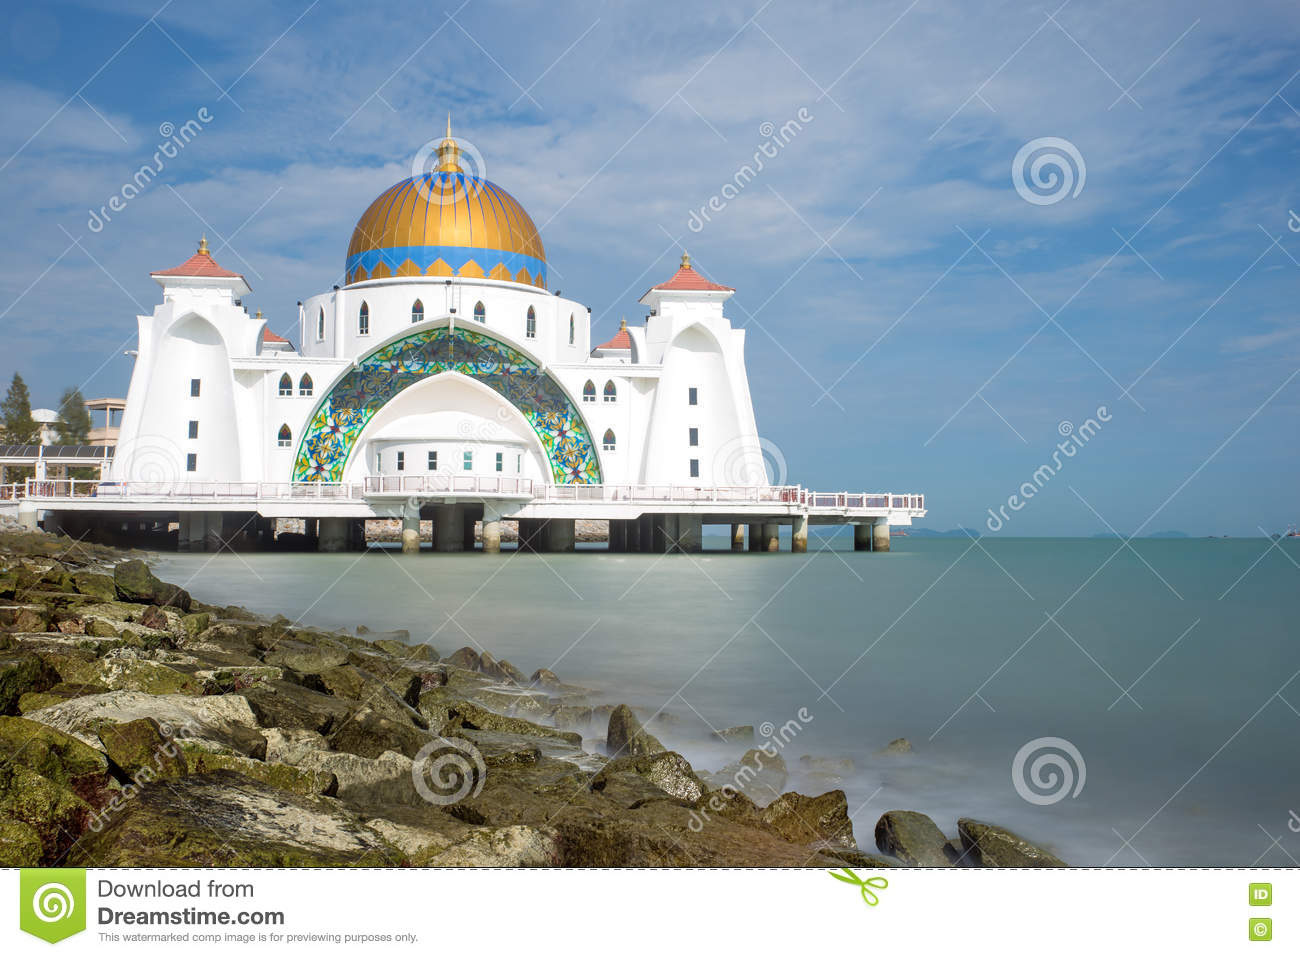Mosque: (70, 118, 776, 529)
